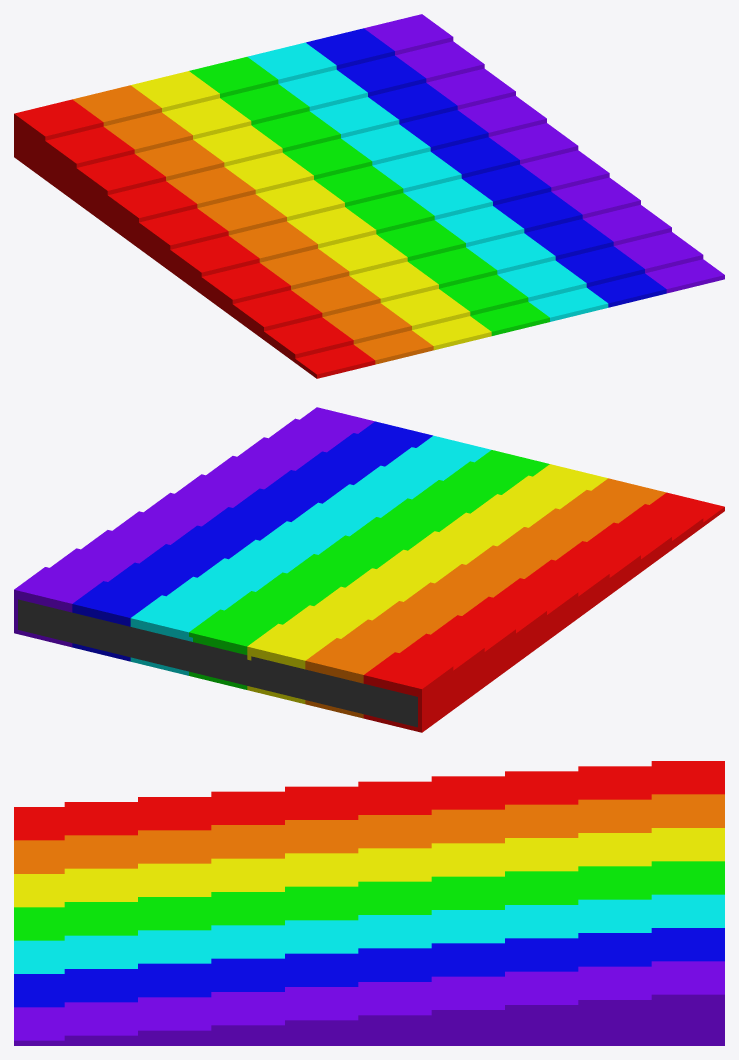
The model's file is Eruption-33.obj.
3 views of the same model, one above another, from view 1: azimuth 30°, elevation 25°; view 2: azimuth 150°, elevation 25°; view 3: azimuth 270°, elevation 25° (orthographic). The views are drawn at different scales.
Bounding box in the file's own units: 9.8 × 1 × 12.6.
Materials: 1 (1 with a texture image).
